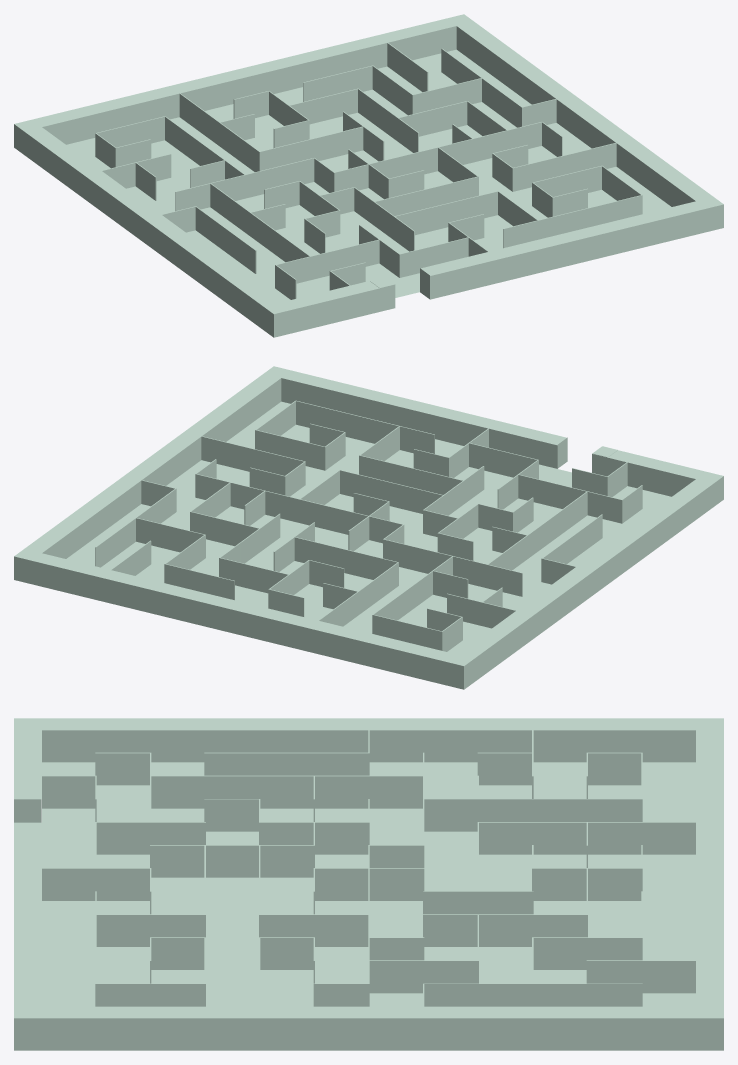
Rendered from level 3.fbx.
The picture shows the model from 3 angles, top to bottom: view 1: azimuth 30°, elevation 25°; view 2: azimuth 150°, elevation 25°; view 3: azimuth 270°, elevation 25°; orthographic projection. The views are drawn at different scales.
Parts seen in each view (by area): view 1: Plane; view 2: Plane; view 3: Plane.
Boxes of the visible parts, <box> form: Plane: <box>14,14,723,337</box>; Plane: <box>14,366,723,689</box>; Plane: <box>14,718,723,1050</box>.
Bounding box in the file's own units: 2172 × 111 × 2172.
